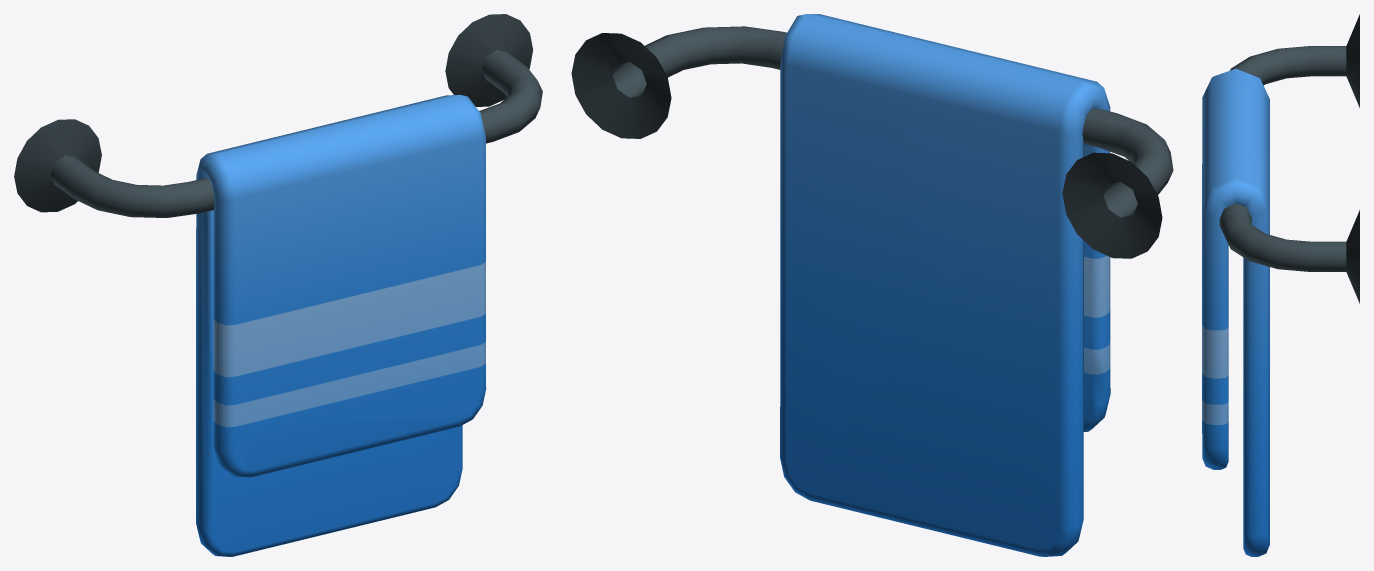
The model's file is Bath_Prop_32.glb.
3 views of the same model, side by side, from view 1: azimuth 30°, elevation 25°; view 2: azimuth 150°, elevation 25°; view 3: azimuth 270°, elevation 25° (orthographic). The views are drawn at different scales.
Parts seen in each view (by area): view 1: Bath_Prop_32; view 2: Bath_Prop_32; view 3: Bath_Prop_32.
Part boxes in pixels (x1=…): Bath_Prop_32: x1=14, y1=14, x2=542, y2=556; Bath_Prop_32: x1=571, y1=14, x2=1173, y2=556; Bath_Prop_32: x1=1202, y1=14, x2=1359, y2=556.
Bounding box in the file's own units: 0.5176 × 0.4022 × 0.1465.
Materials: 1 (1 with a texture image).
